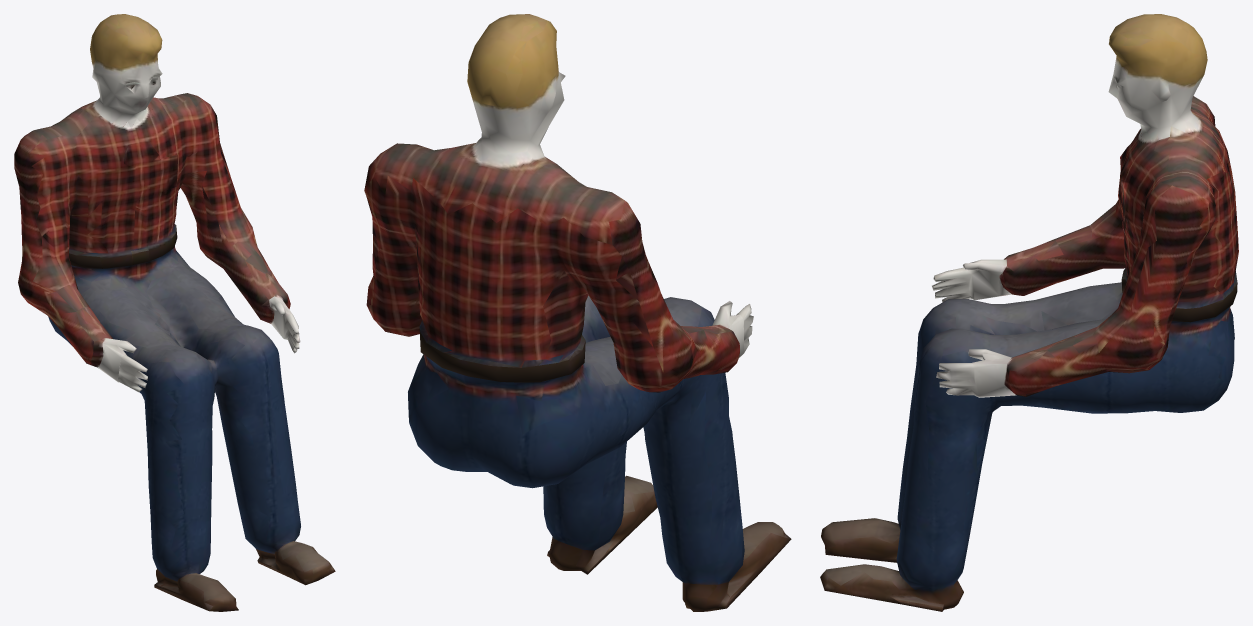
The model's file is mq_man_plaid_sit-low.glb.
3 views of the same model, side by side, from view 1: azimuth 30°, elevation 25°; view 2: azimuth 150°, elevation 25°; view 3: azimuth 270°, elevation 25° (orthographic). The views are drawn at different scales.
Visible parts, largest first — view 1: mq_man_plaid_sit-low, mq_man_plaid_sit_head-low; view 2: mq_man_plaid_sit-low, mq_man_plaid_sit_head-low; view 3: mq_man_plaid_sit-low, mq_man_plaid_sit_head-low.
Part boxes in pixels (left/top/right/bottom): mq_man_plaid_sit-low: left=14, top=93, right=335, bottom=611; mq_man_plaid_sit_head-low: left=78, top=14, right=162, bottom=128; mq_man_plaid_sit-low: left=364, top=143, right=791, bottom=611; mq_man_plaid_sit_head-low: left=453, top=14, right=565, bottom=175; mq_man_plaid_sit-low: left=820, top=96, right=1238, bottom=611; mq_man_plaid_sit_head-low: left=1108, top=14, right=1207, bottom=152.
Bounding box in the file's own units: 0.6602 × 1.34 × 0.8951.
Materials: 1 (1 with a texture image).
